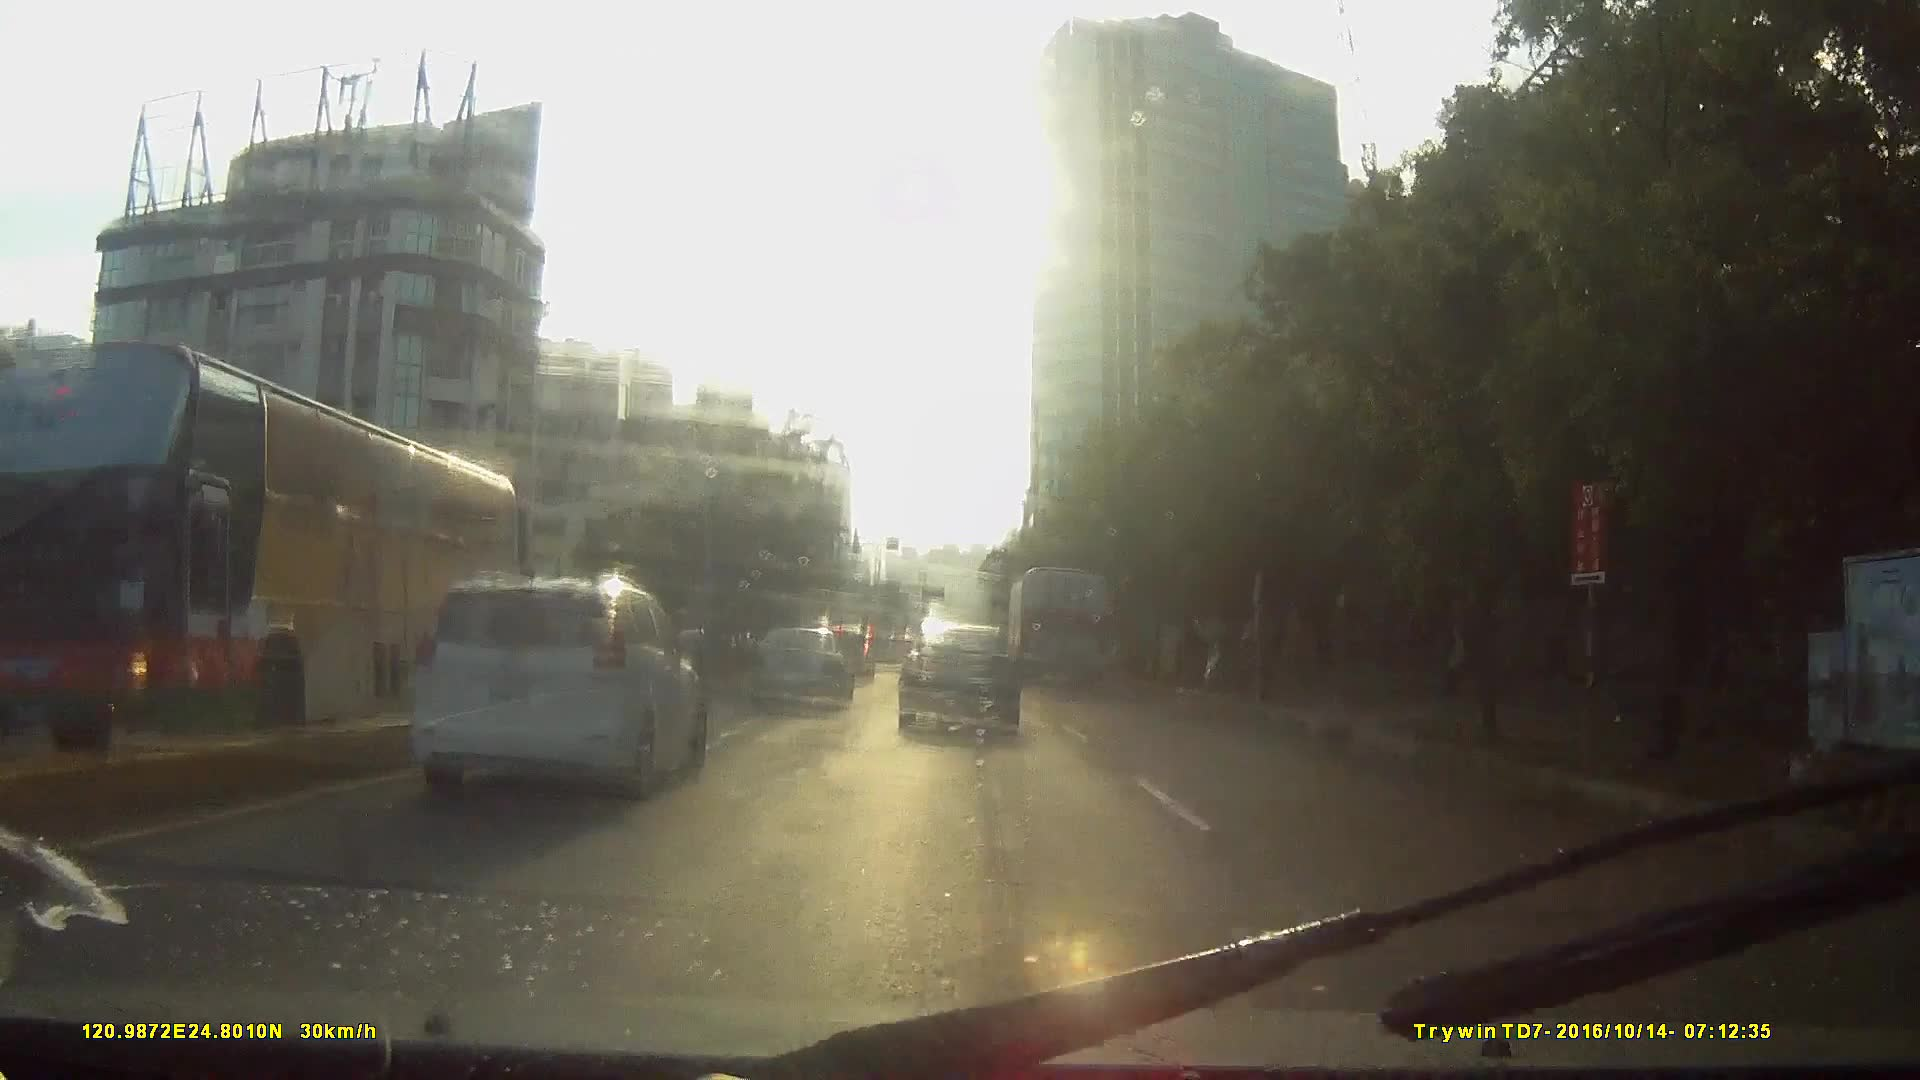vehicle: (1, 334, 535, 765), (251, 556, 684, 868), (406, 568, 705, 802), (893, 618, 1019, 732), (1007, 564, 1112, 691), (746, 625, 855, 711), (866, 638, 915, 687)
